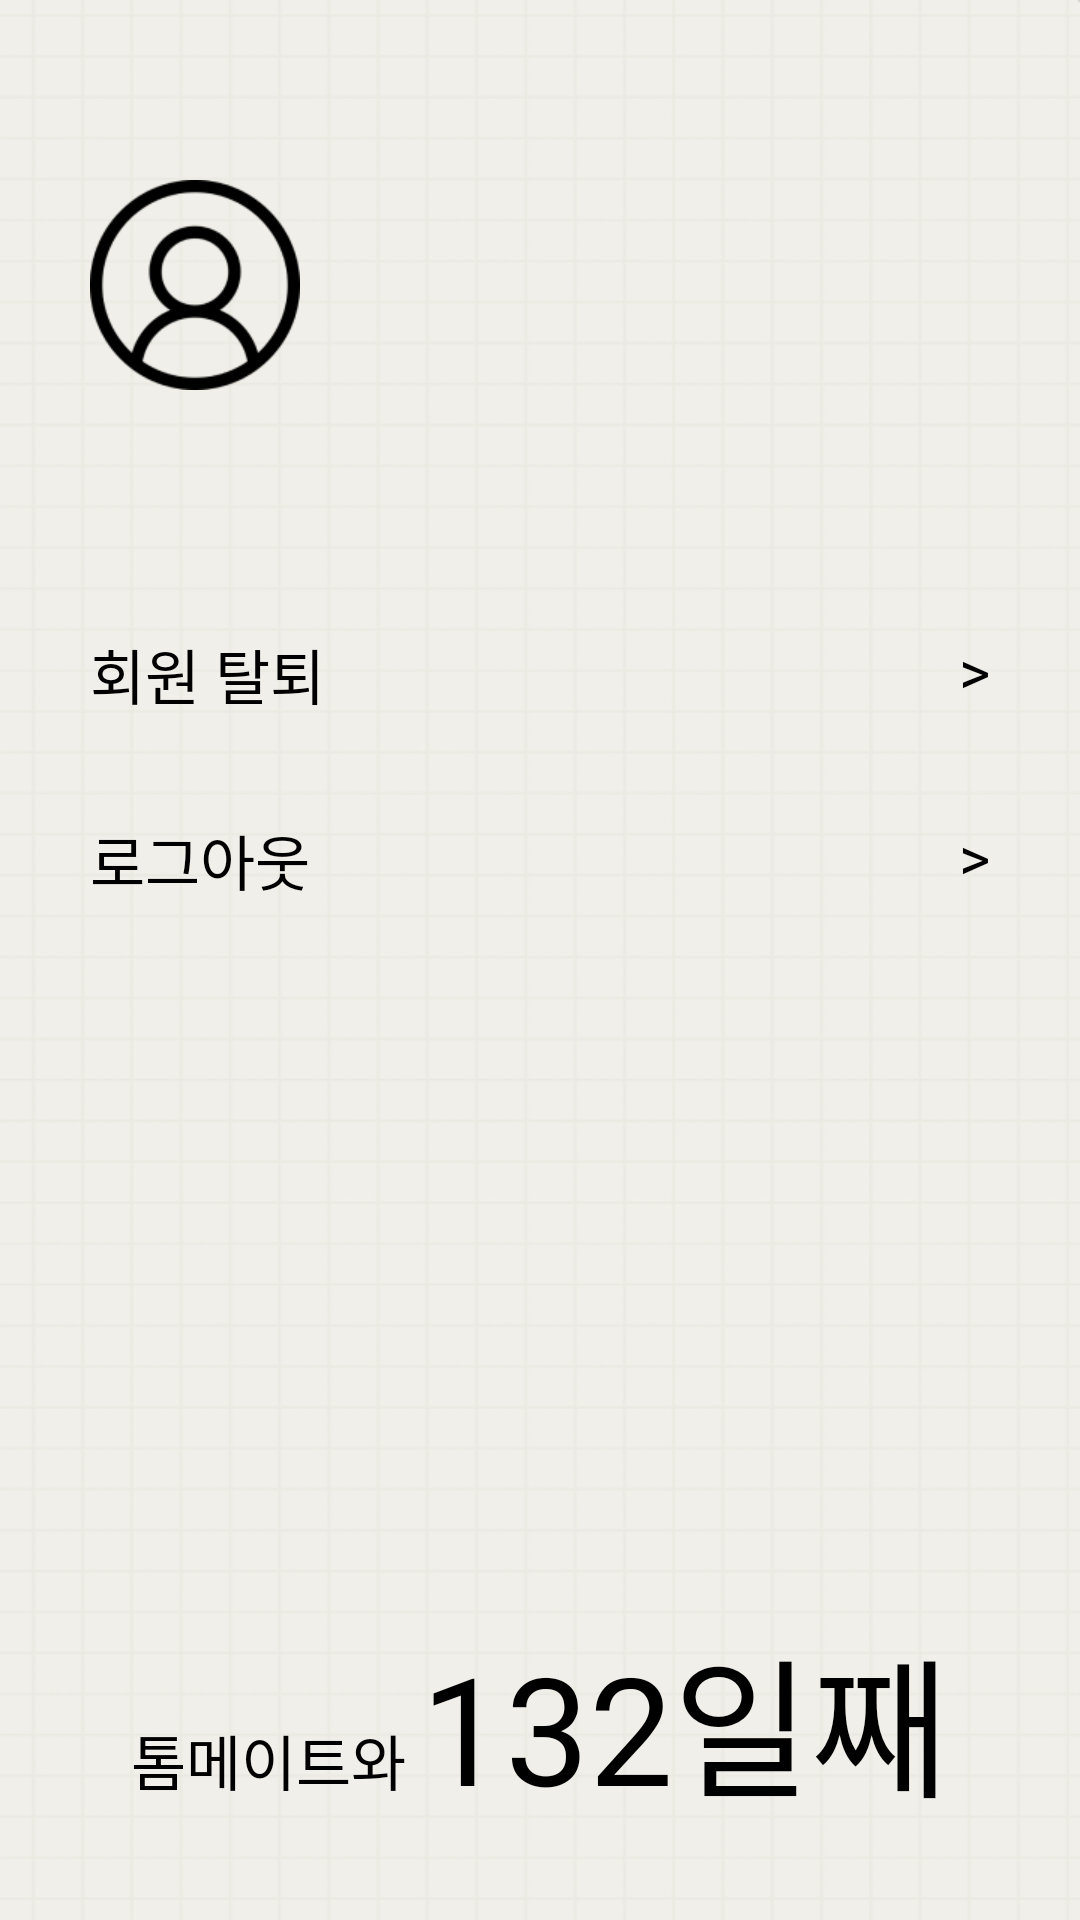

Locate icon controls on the screen. Image size 1080w x 1920h, boxes as bbox(x1, y1, x2, y2).
mypage: bbox(90, 180, 300, 390)
